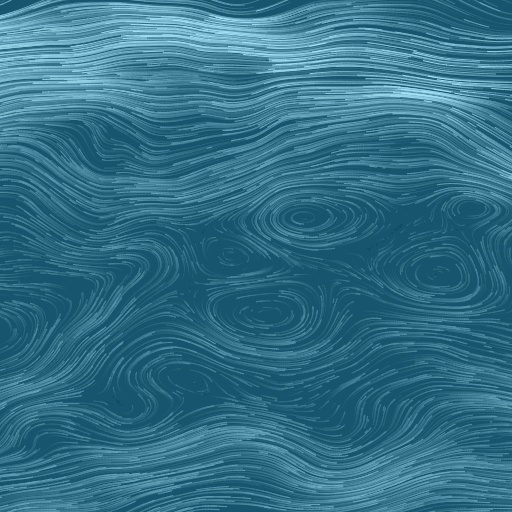eddy: (206, 284, 320, 349), (258, 188, 383, 247), (395, 243, 482, 305), (165, 362, 213, 401), (450, 192, 494, 225), (212, 244, 251, 271)
